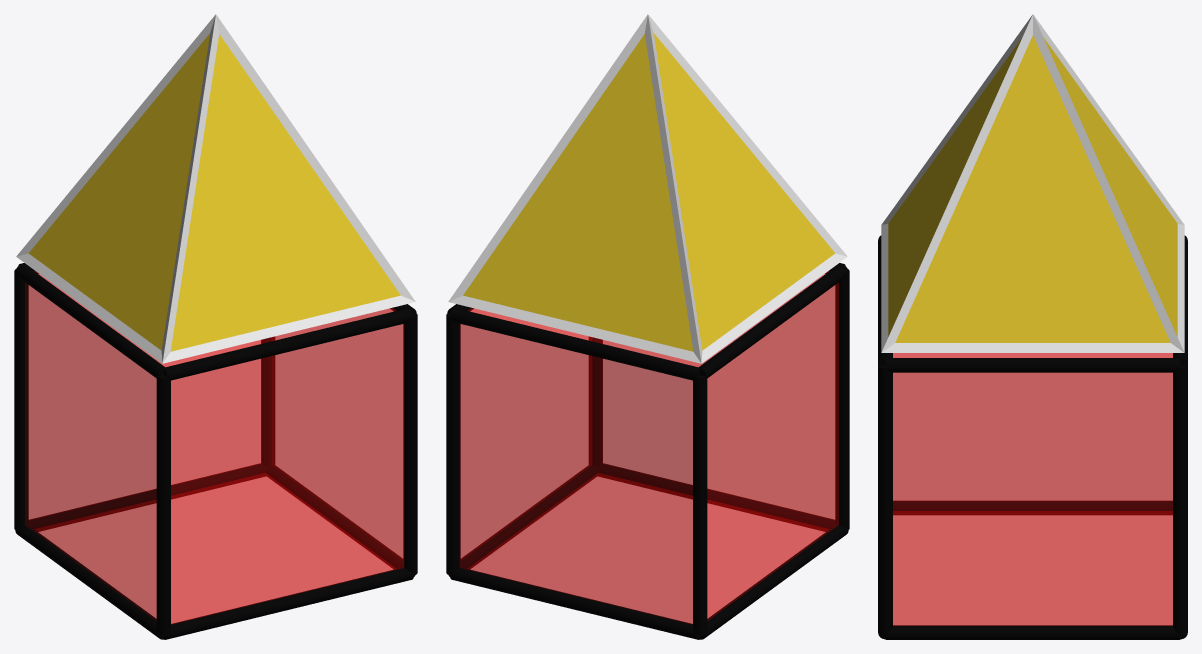
3 views of the same model, side by side, from view 1: azimuth 30°, elevation 25°; view 2: azimuth 150°, elevation 25°; view 3: azimuth 270°, elevation 25° (orthographic). The views are drawn at different scales.
Parts seen in each view (by area): view 1: ReferenceCube, Cube.001, Cube.002, EdgeLine.008, EdgeLine.009, EdgeLine.004, EdgeLine.011, EdgeLine, EdgeLine.002, EdgeLine.007, EdgeLine.003, EdgeLine.001 (+1 smaller); view 2: ReferenceCube, Cube.001, Cube.002, EdgeLine.011, EdgeLine.010, EdgeLine.006, EdgeLine.008, EdgeLine.002, EdgeLine, EdgeLine.007, EdgeLine.003, EdgeLine.001 (+1 smaller); view 3: ReferenceCube, Cube.001, Cube.002, EdgeLine.005, EdgeLine.001, EdgeLine.009, EdgeLine.010, EdgeLine.003, EdgeLine.004, EdgeLine.006.
Part boxes in pixels (<box>): ReferenceCube: <box>25,271,403,624</box>; Cube.001: <box>28,33,400,351</box>; Cube.002: <box>16,14,415,363</box>; EdgeLine.008: <box>156,375,170,635</box>; EdgeLine.009: <box>403,313,417,575</box>; EdgeLine.004: <box>164,308,413,380</box>; EdgeLine.011: <box>14,269,28,529</box>; EdgeLine: <box>164,567,413,639</box>; EdgeLine.002: <box>28,463,265,531</box>; EdgeLine.007: <box>15,264,164,378</box>; EdgeLine.003: <box>15,524,163,639</box>; EdgeLine.001: <box>265,465,415,576</box>; ReferenceCube: <box>460,271,838,624</box>; Cube.001: <box>463,33,835,351</box>; Cube.002: <box>448,14,847,363</box>; EdgeLine.011: <box>693,375,707,635</box>; EdgeLine.010: <box>446,313,460,575</box>; EdgeLine.006: <box>450,308,699,380</box>; EdgeLine.008: <box>835,269,849,529</box>; EdgeLine.002: <box>450,567,699,639</box>; EdgeLine: <box>598,463,835,531</box>; EdgeLine.007: <box>699,264,848,378</box>; EdgeLine.003: <box>700,524,848,639</box>; EdgeLine.001: <box>448,465,598,576</box>; ReferenceCube: <box>893,353,1172,625</box>; Cube.001: <box>888,35,1177,342</box>; Cube.002: <box>881,14,1184,352</box>; EdgeLine.005: <box>885,358,1180,372</box>; EdgeLine.001: <box>885,625,1180,639</box>; EdgeLine.009: <box>878,365,892,635</box>; EdgeLine.010: <box>1173,365,1187,635</box>; EdgeLine.003: <box>893,501,1172,514</box>; EdgeLine.004: <box>878,235,892,365</box>; EdgeLine.006: <box>1173,235,1187,365</box>.
Size of the model in its own units: 210 by 421 by 210.
